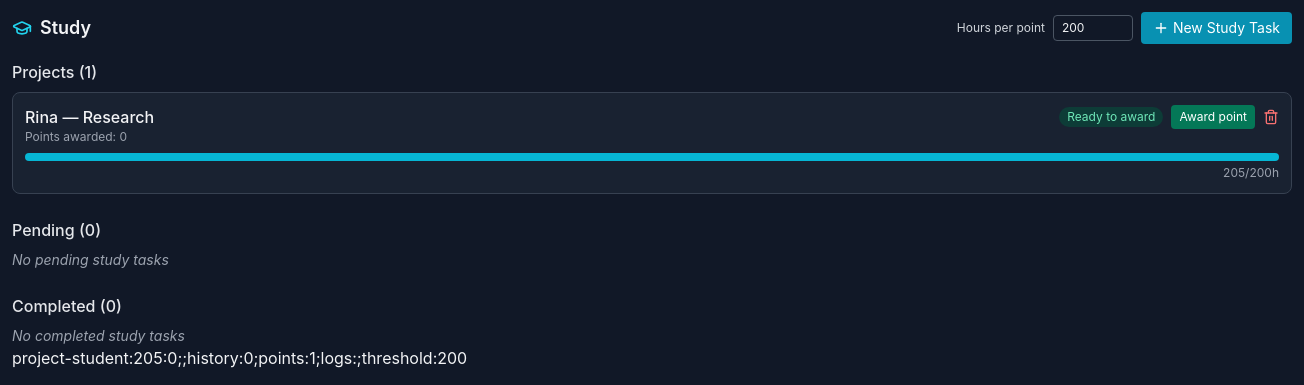
Scenario: StudyActivity › awards a skill point, appends history, and rolls project hours over
Click the button with test id "award-point-button". click: (1213, 117)
box: [1172, 105, 1255, 129]
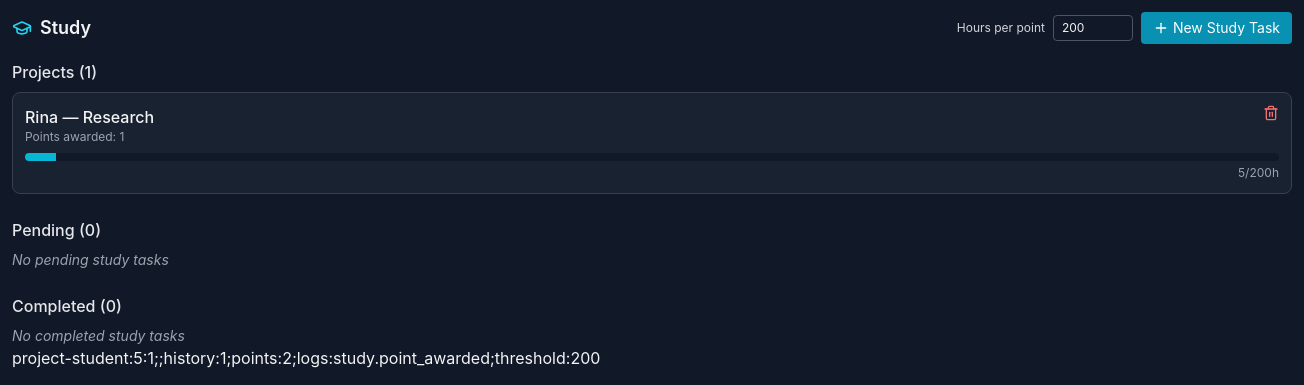
Check: the text with test id "observer" shows "project-student:5:1", box [12, 348, 154, 368]
Check: the text with test id "observer" shows "history:1", box [12, 348, 600, 368]
Check: the text with test id "observer" shows "points:2", box [12, 348, 600, 368]
